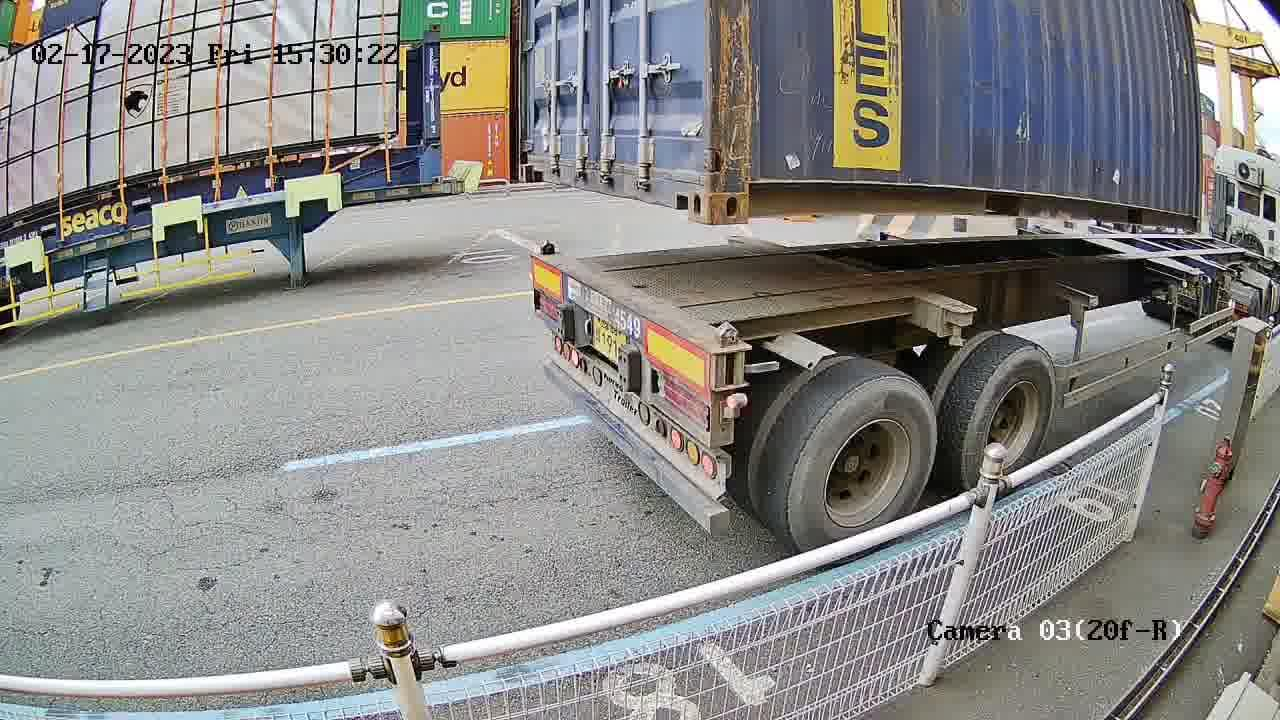Chassis: (529, 249, 750, 390)
Cone: (714, 319, 744, 382), (536, 235, 558, 255)
Hole_L: (710, 156, 782, 224), (518, 151, 546, 182)
Hole_R: (670, 155, 711, 225)
Tire: (790, 377, 937, 564), (965, 347, 1057, 500)
